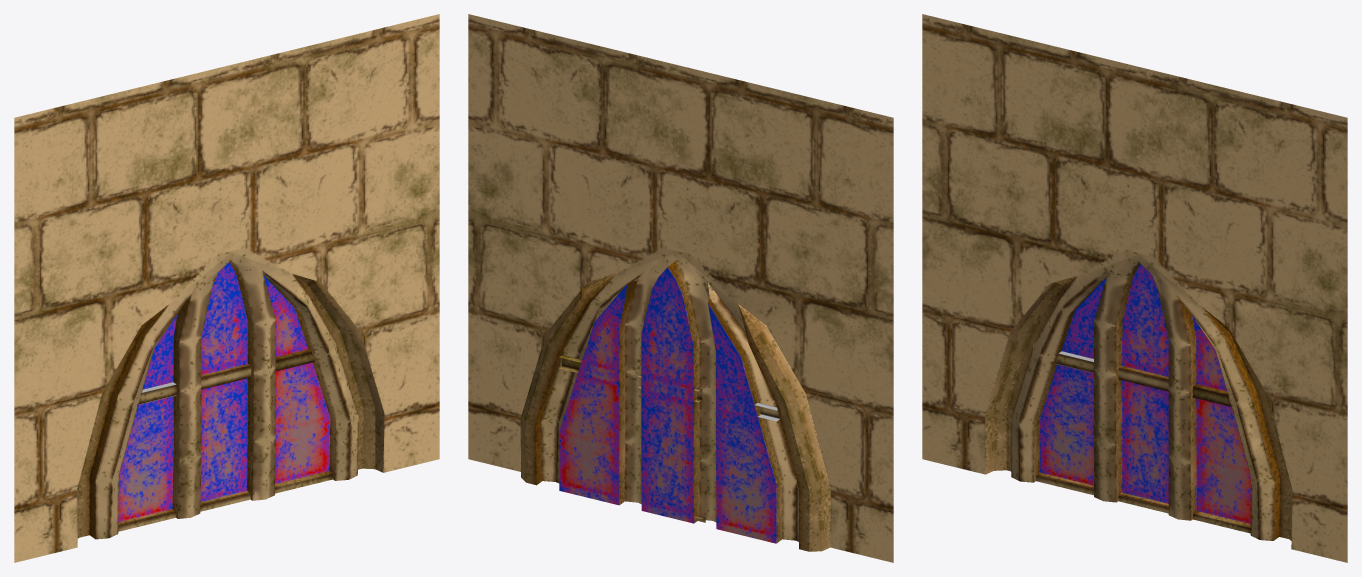
The model's file is SM_ArribaVentanal.fbx.
The picture shows the model from 3 angles, left to right: view 1: azimuth 30°, elevation 25°; view 2: azimuth 150°, elevation 25°; view 3: azimuth 330°, elevation 25°; orthographic projection.
Parts seen in each view (by area): view 1: SM_ArribaVentanal; view 2: SM_ArribaVentanal; view 3: SM_ArribaVentanal.
Boxes of the visible parts, bbox=[...] form: SM_ArribaVentanal: bbox=[14, 14, 439, 562]; SM_ArribaVentanal: bbox=[468, 14, 893, 562]; SM_ArribaVentanal: bbox=[922, 14, 1347, 562].
Bounding box in the file's own units: 300 × 300 × 11.8.
